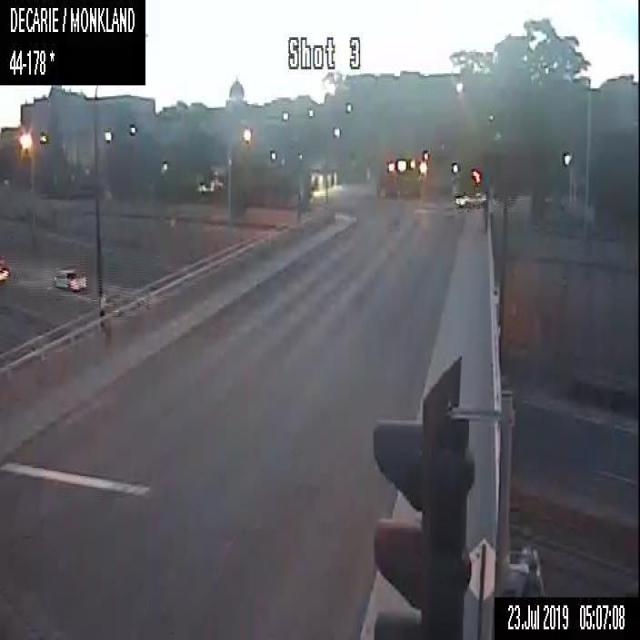vehicle: (51, 265, 87, 291), (454, 186, 486, 206), (0, 253, 11, 280)
